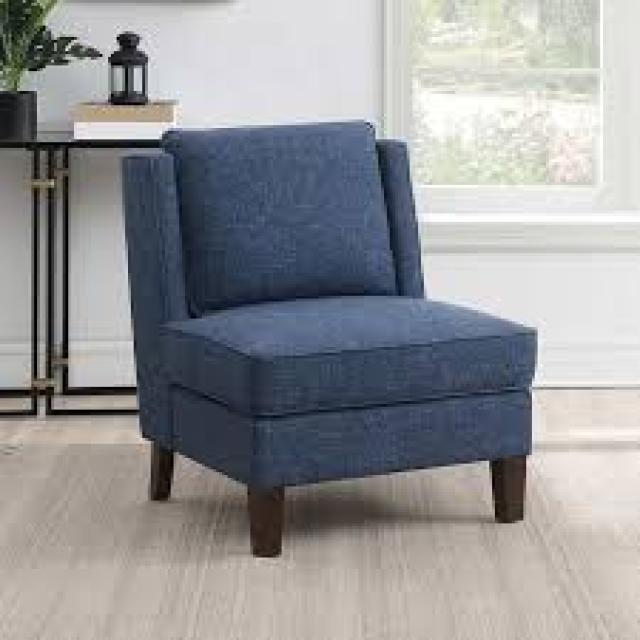chair: (34, 65, 603, 640)
